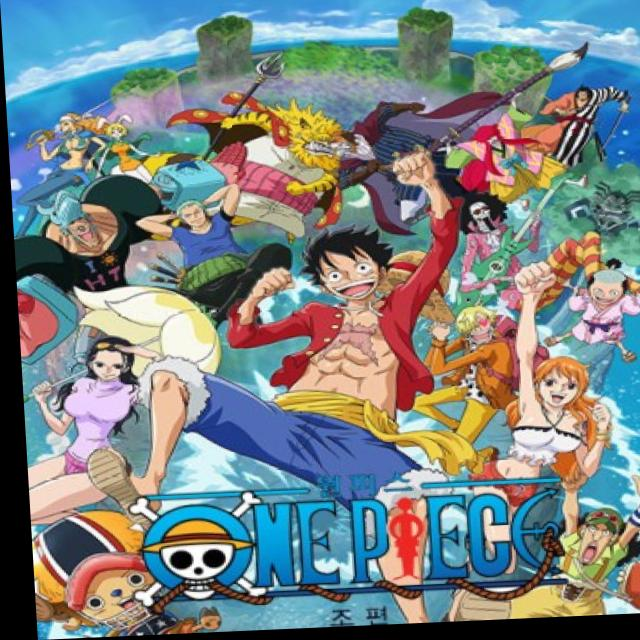Blook: (454, 193, 543, 318)
Chyopa: (30, 505, 156, 618)
Franky: (24, 175, 112, 253)
Luffy: (205, 156, 485, 497)
Nami: (473, 246, 600, 486)
NicoRobin: (70, 336, 148, 387)
Usopp: (554, 483, 640, 574)
Zoro: (133, 191, 236, 255)
